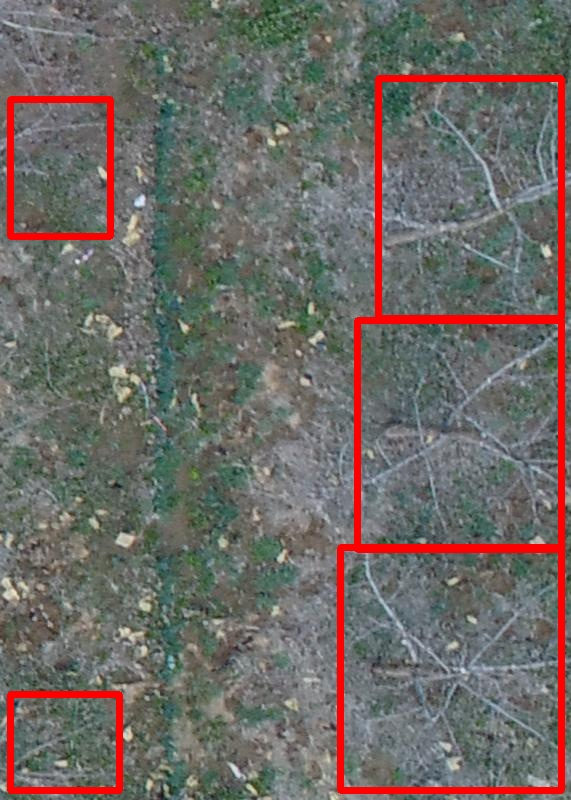apple: (340, 547, 561, 790), (357, 320, 561, 549), (378, 78, 561, 318), (10, 99, 110, 236), (10, 694, 119, 790)
